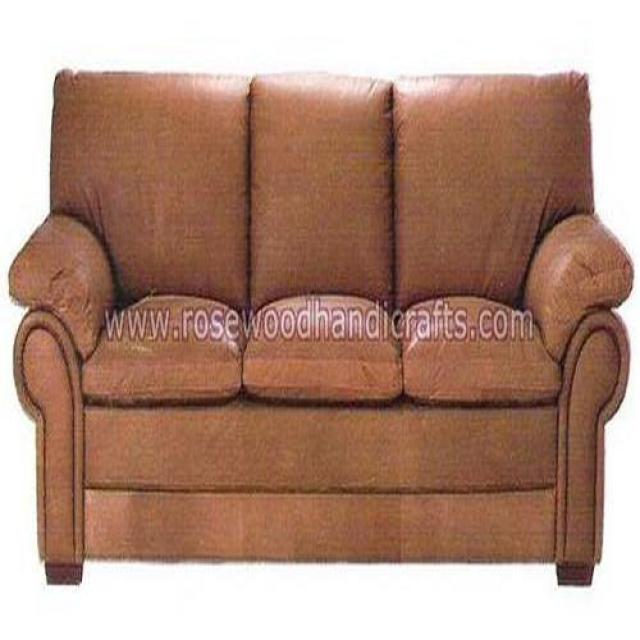sofa: (8, 70, 632, 589)
